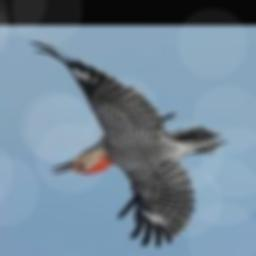Woodpecker: (27, 41, 228, 249)
